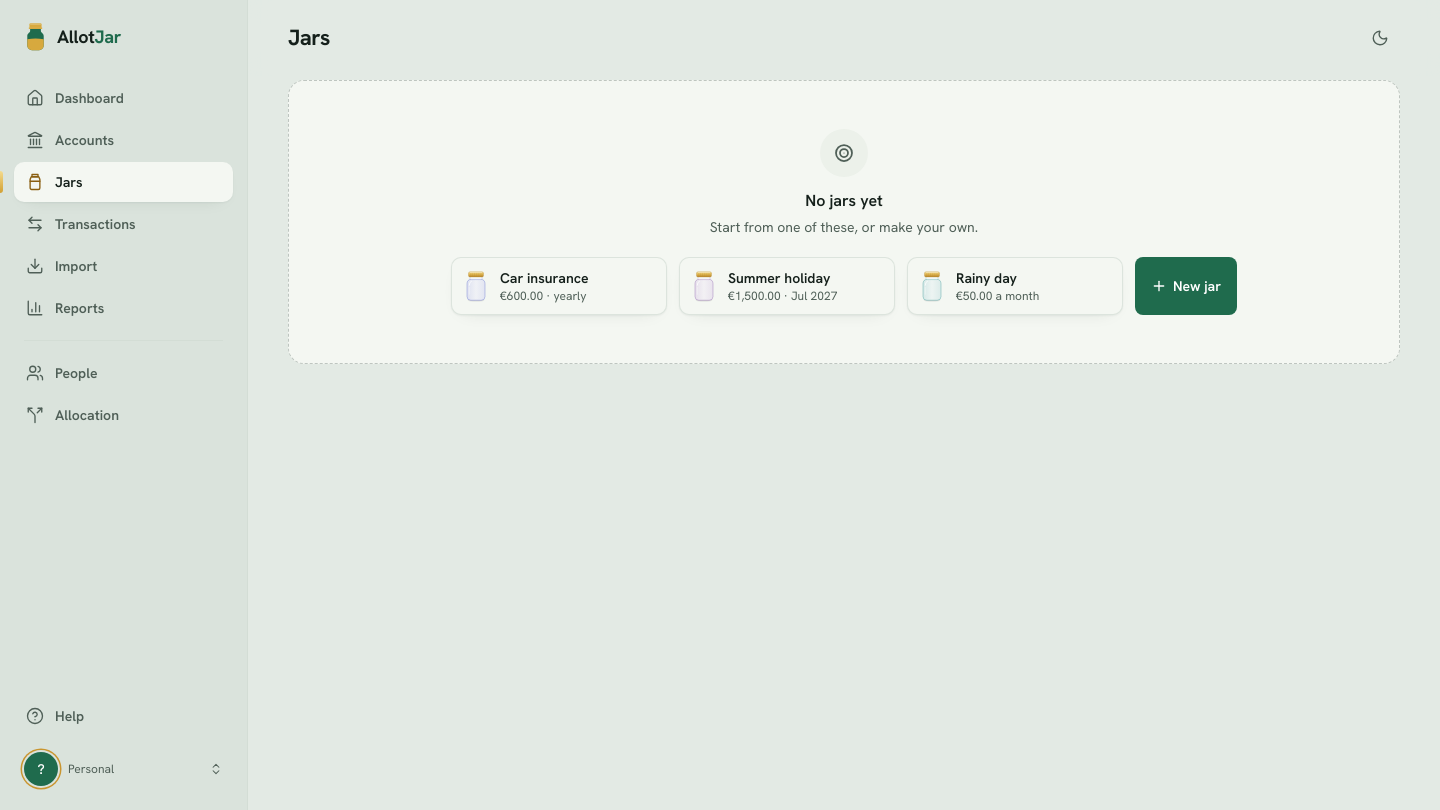
Test: JarsPage — catalog supplemental (JAR) › JAR-017: the preview is hidden, and nothing is asked, while the target is blank, 0 or unparseable
Click the button "New jar" at (1186, 286), box [1135,257,1237,315]
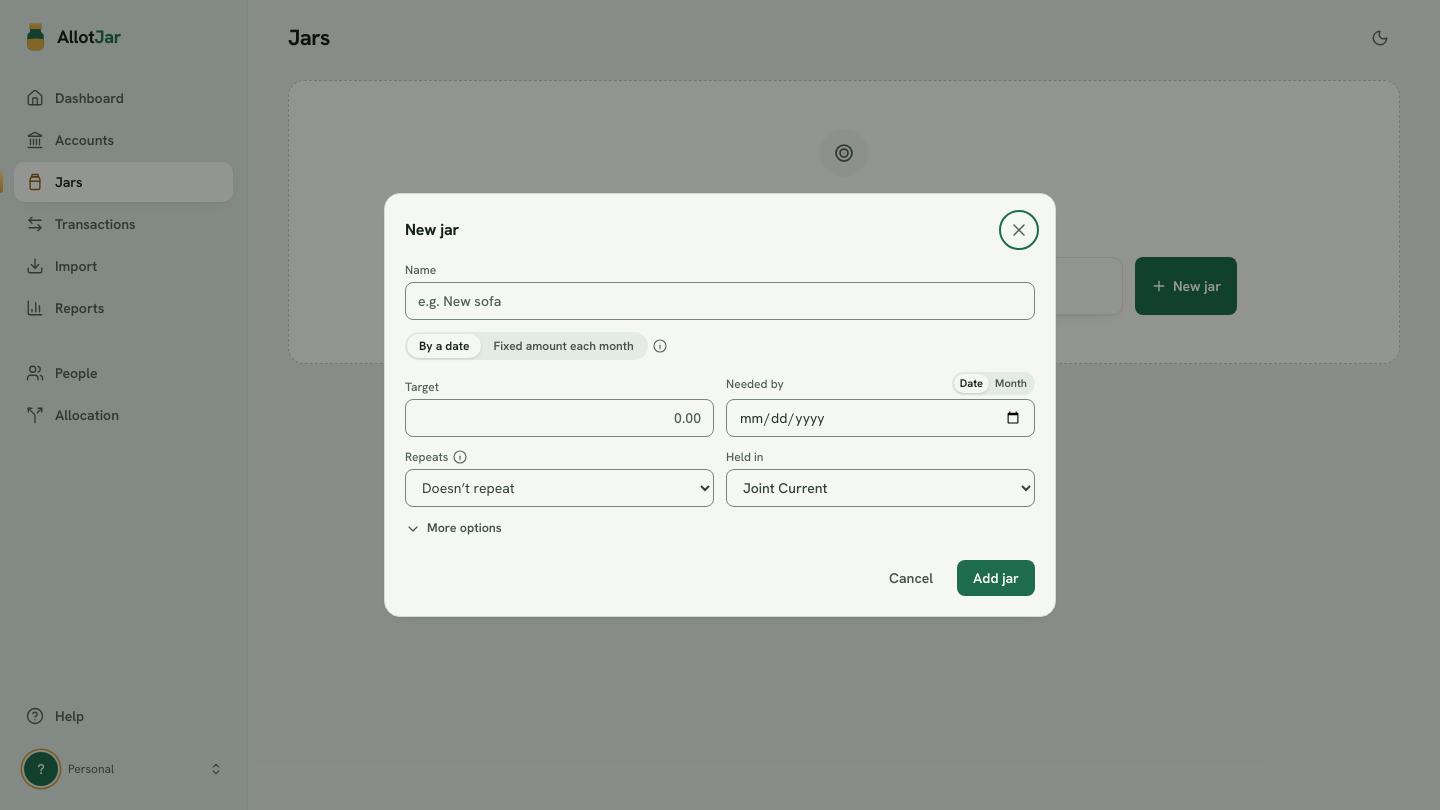
Type "2026-12-01" into the date field named "Needed by" at (880, 418), box [726,399,1035,437]
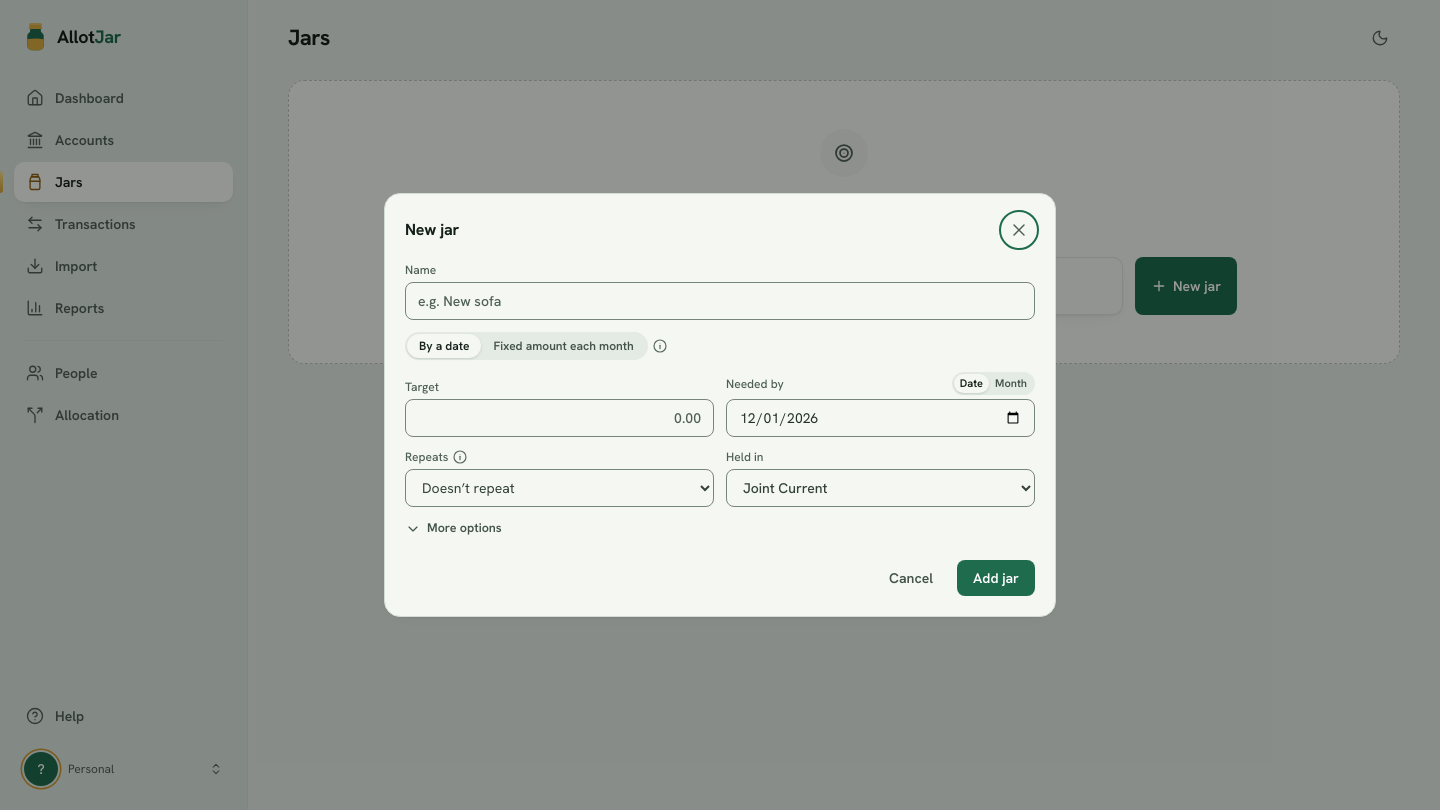
Type "0" into the field named "Target amount" at (560, 418), box [405,399,714,437]
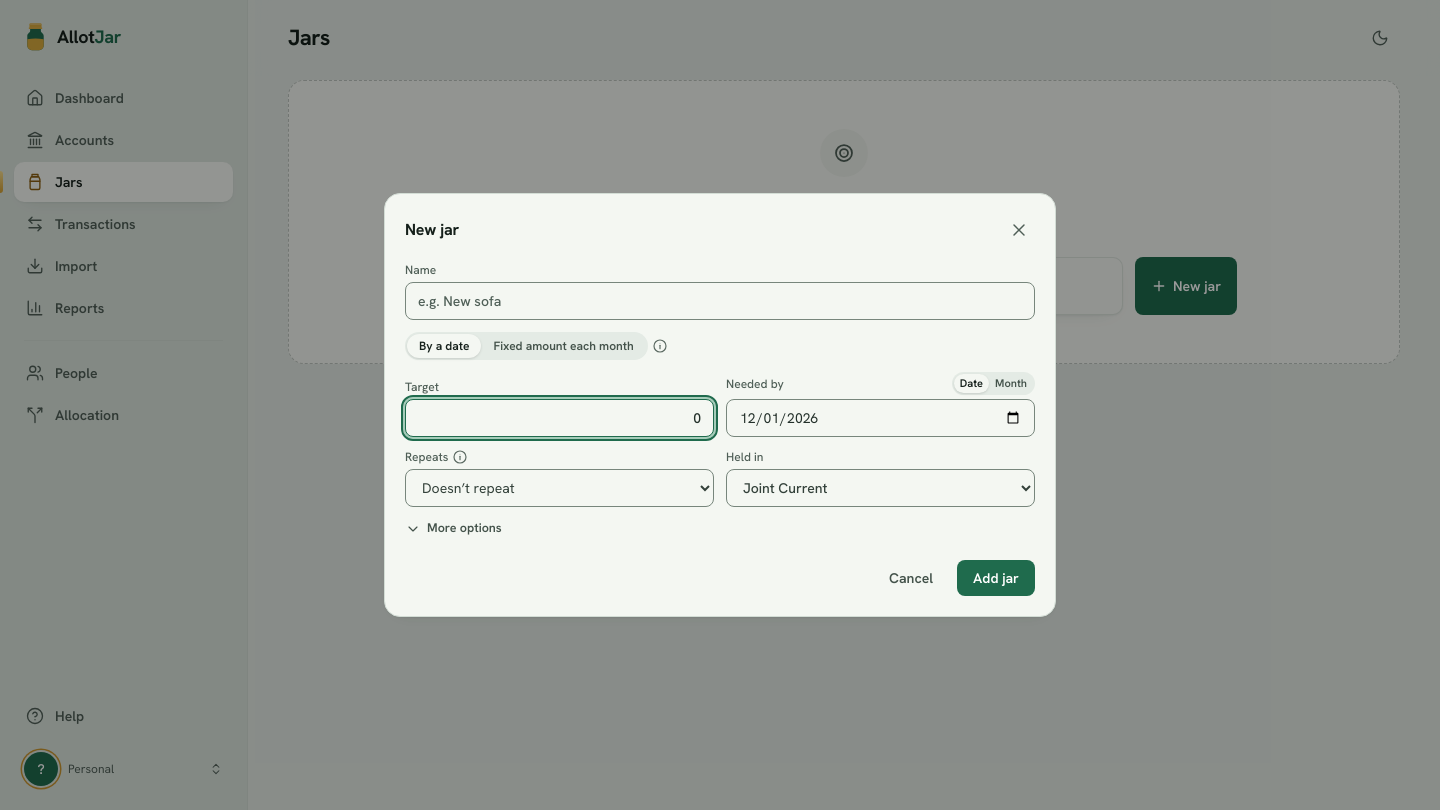
Replace the text in the field named "Target amount" with "abc" at (560, 418), box [405,399,714,437]
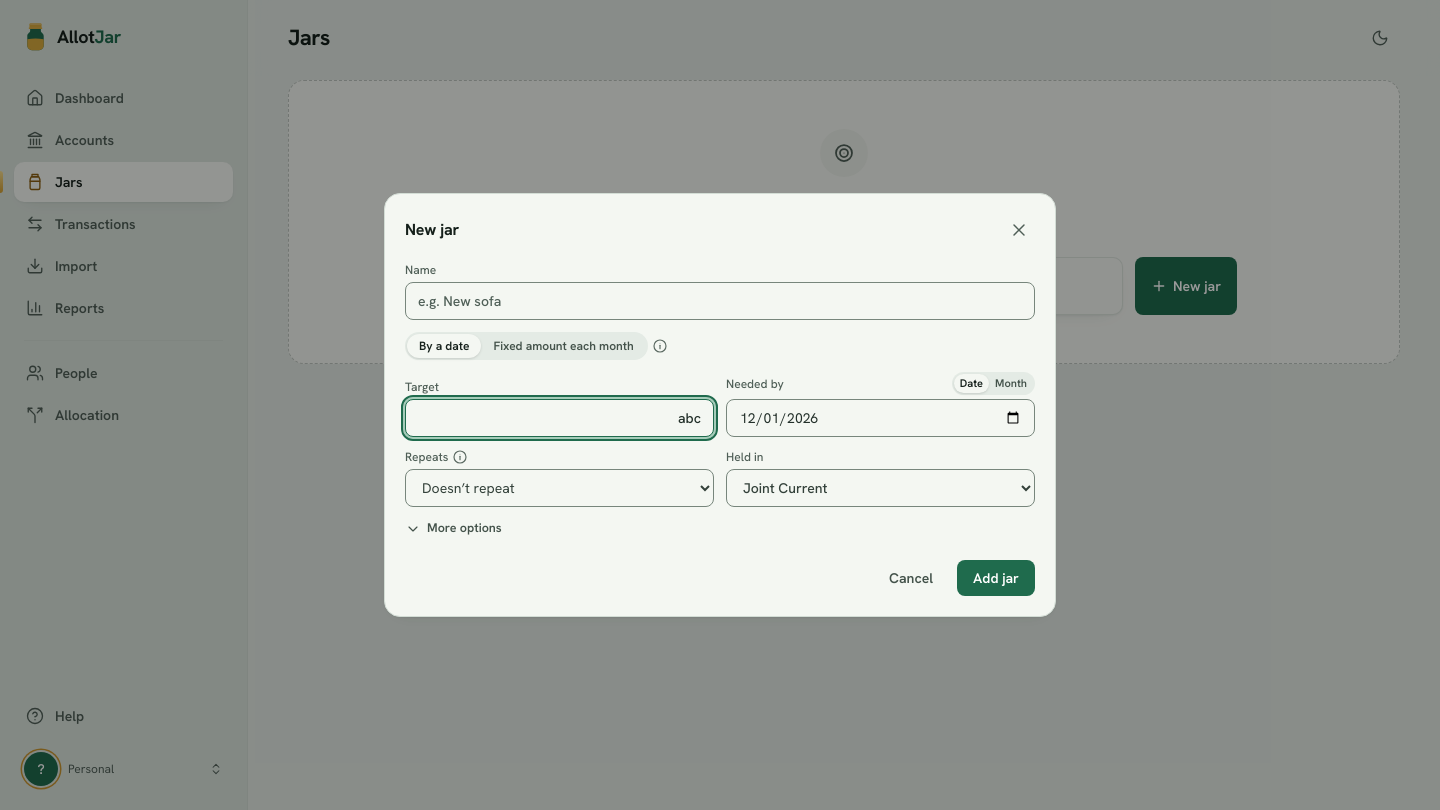
Replace the text in the field named "Target amount" with "300" at (560, 418), box [405,399,714,437]
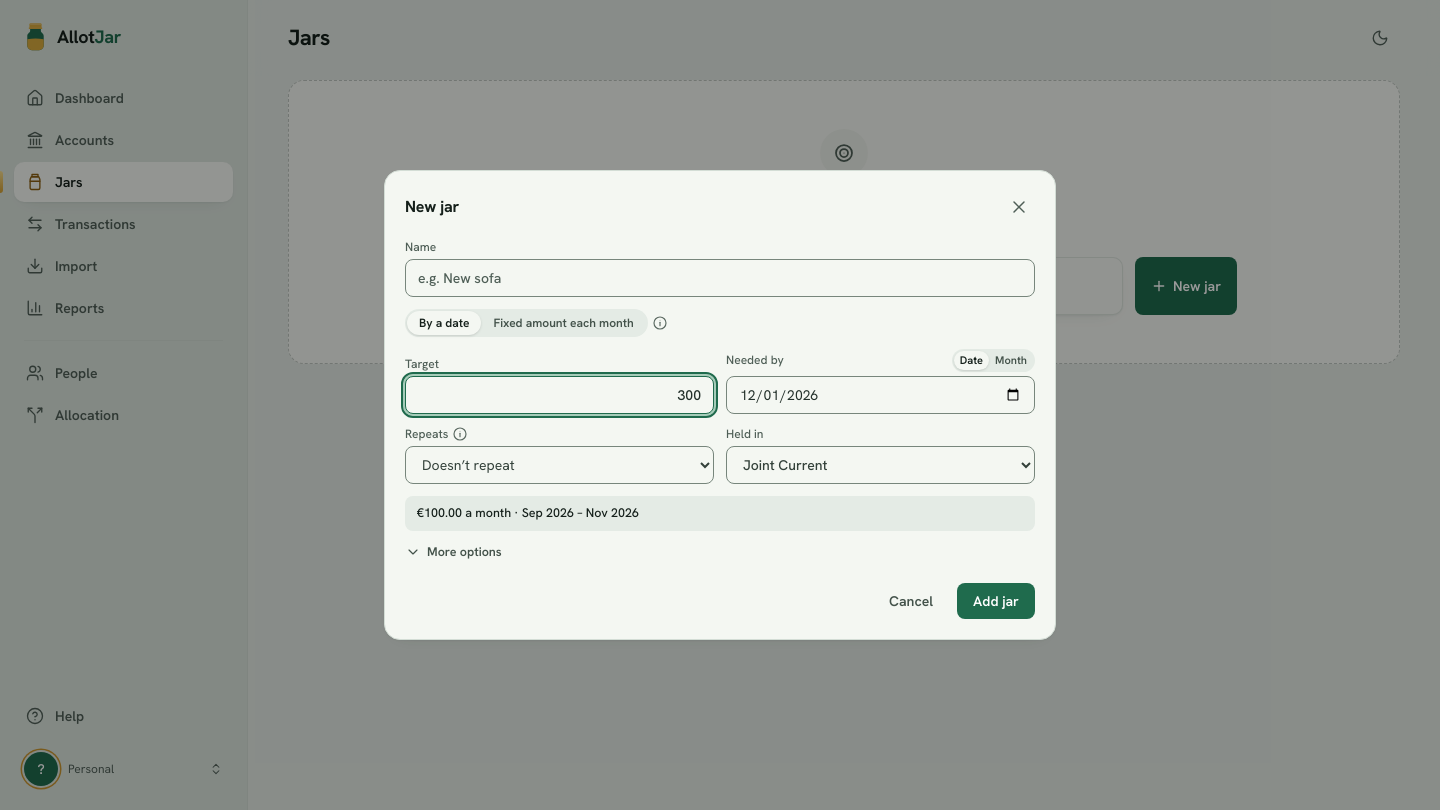
expect the element with test id "jar-schedule-preview" reads "€100.00 a month · Sep 2026 – Nov 2026": met, box [417,504,639,521]
